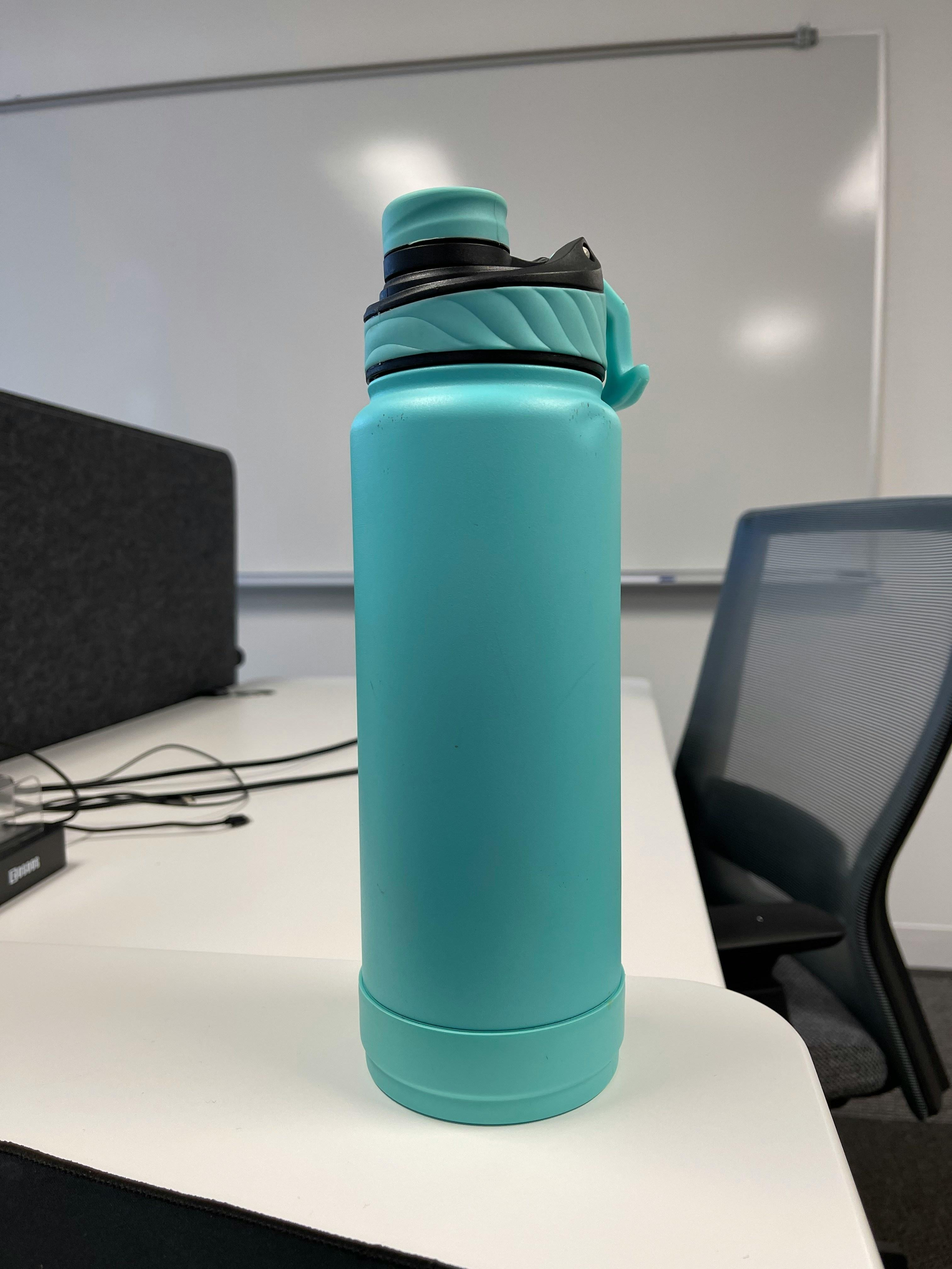Bottle-Detection: (252, 138, 746, 1205)
